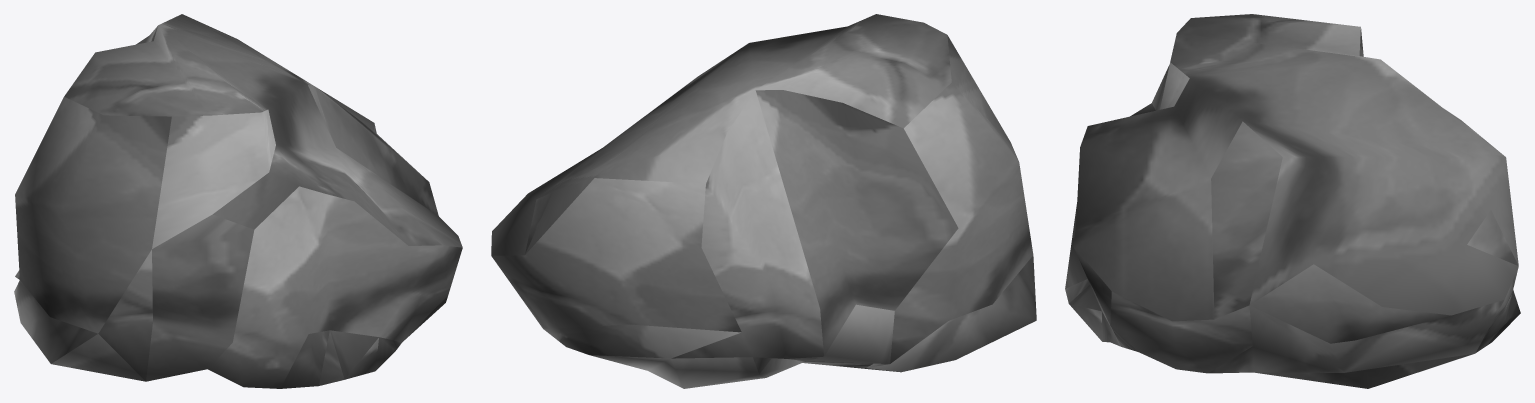
The model's file is shitou_104.FBX.
The picture shows the model from 3 angles, left to right: view 1: azimuth 30°, elevation 25°; view 2: azimuth 150°, elevation 25°; view 3: azimuth 270°, elevation 25°; orthographic projection. The views are drawn at different scales.
Visible parts, largest first — view 1: shitou_103; view 2: shitou_103; view 3: shitou_103.
Boxes of the visible parts, x1,y1,x2,y2 form: shitou_103: (14, 14, 462, 388); shitou_103: (491, 14, 1036, 388); shitou_103: (1065, 14, 1520, 388).
Size of the model in its own units: 41.96 by 29.91 by 42.37.
